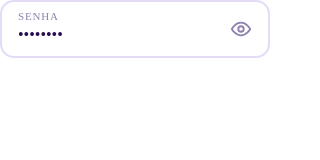
Test: TextField › esconde a senha por padrão e alterna ao tocar no olho
Later steps or results of the test are not shown.
Step 1. Click the button with test id "password-toggle" → (235, 29), box left=218, top=10, right=252, bottom=48
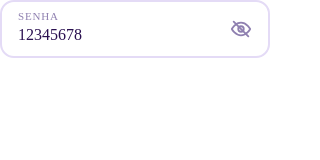
Expected: the button named "Ocultar senha" is shown, left=218, top=10, right=252, bottom=48
